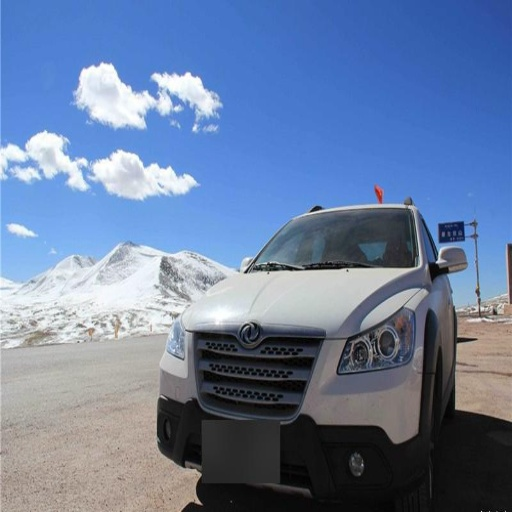front_bumper: (159, 320, 432, 511)
hood: (182, 272, 423, 337)
